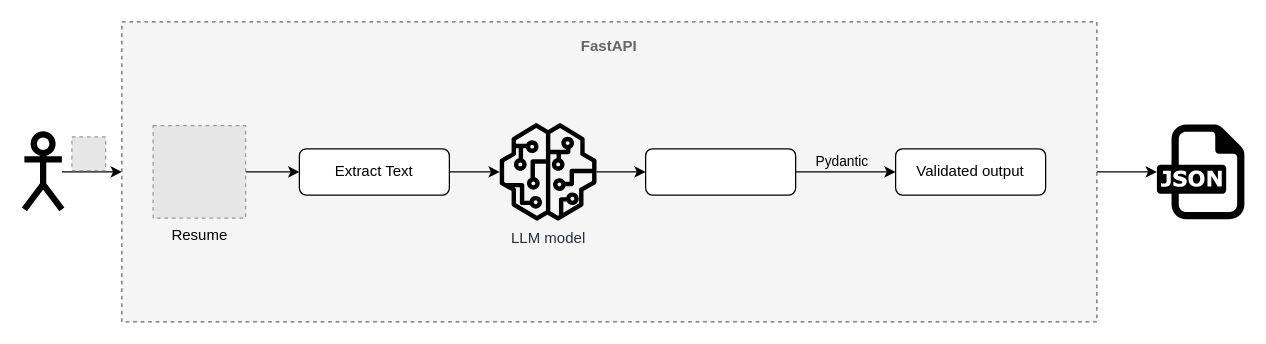
Image size: 1266x344. Some labels were removed from this diagram. Grey dashed boxes stand in for pictures. Here are the shapes that lost their labels. From the top down, the centre of each, then its label:
At point 42,171: "User".
At point 720,171: "Structured Output".
